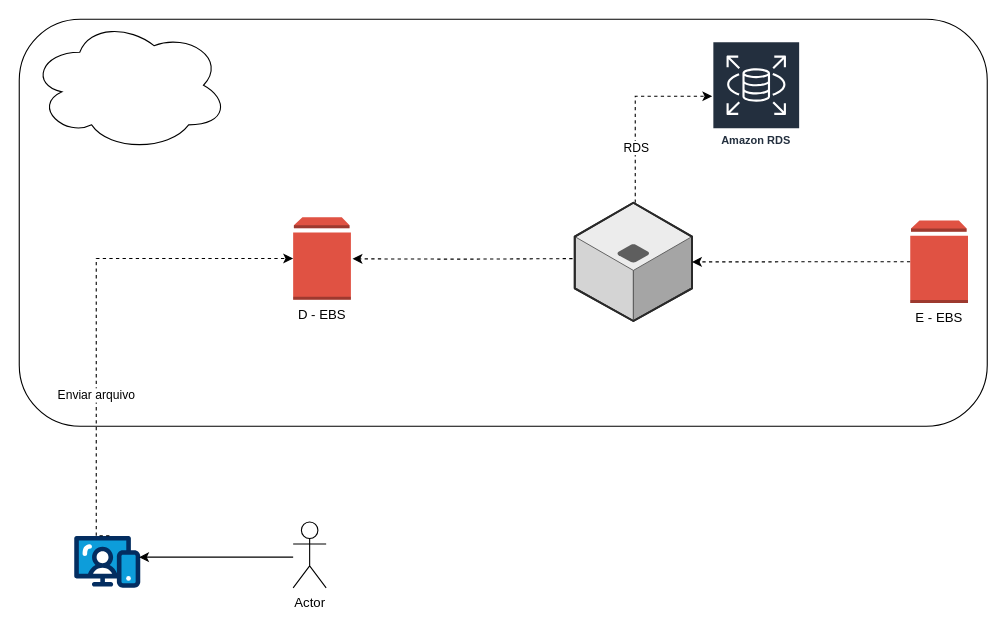
The diagram is 1007 pixels wide and 630 high, and some of its shapes have lost their labels. Here are the shapes that lost their labels. From the top down, the centre of each, then its label:
At (x=128, y=84): "AWS".
At (x=633, y=261): "EC2".
